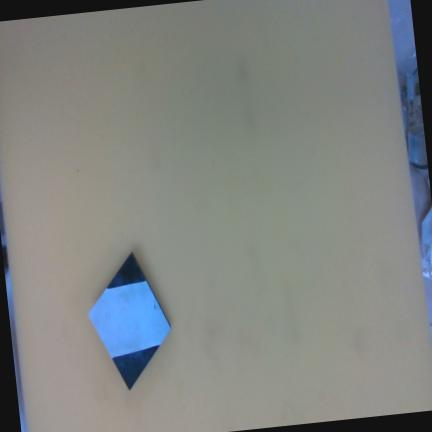tile: (71, 250, 187, 392)
